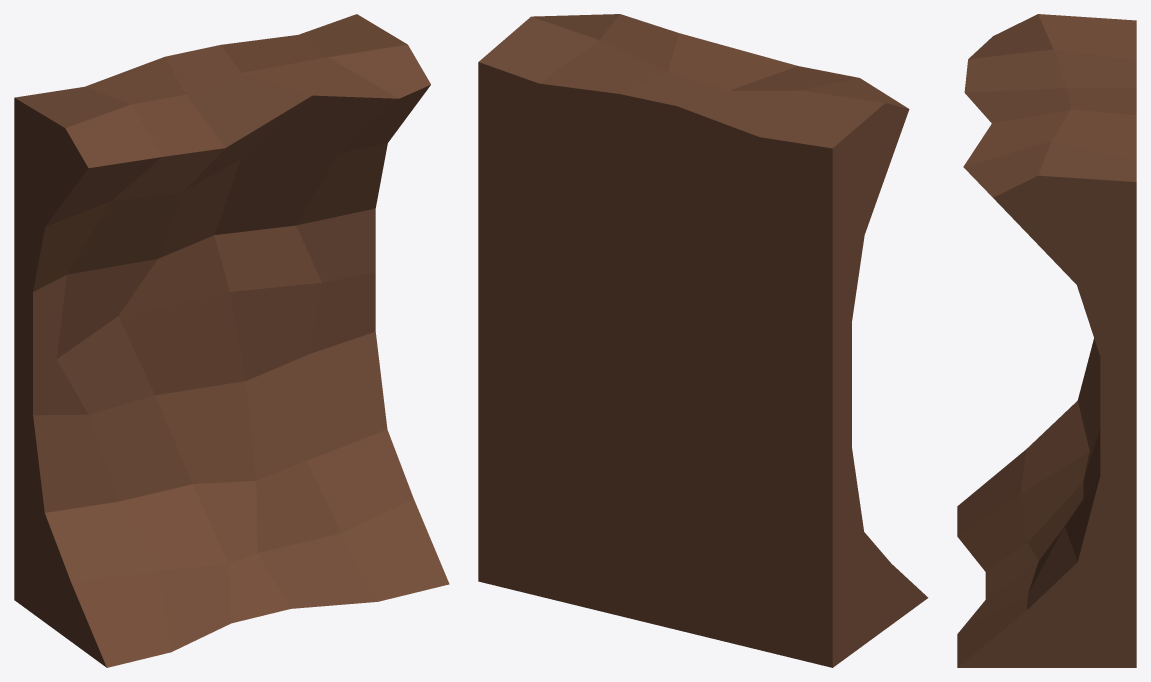
File: CaveWallSmall.fbx
The picture shows the model from 3 angles, left to right: view 1: azimuth 30°, elevation 25°; view 2: azimuth 150°, elevation 25°; view 3: azimuth 270°, elevation 25°; orthographic projection. The views are drawn at different scales.
Visible parts, largest first — view 1: CaveWallSmall; view 2: CaveWallSmall; view 3: CaveWallSmall.
Part boxes in pixels (left/top/right/bottom): CaveWallSmall: left=14, top=14, right=449, bottom=667; CaveWallSmall: left=478, top=14, right=928, bottom=667; CaveWallSmall: left=957, top=14, right=1136, bottom=667.
Size of the model in its own units: 250 by 355 by 117.
Materials: 1 (1 with a texture image).
